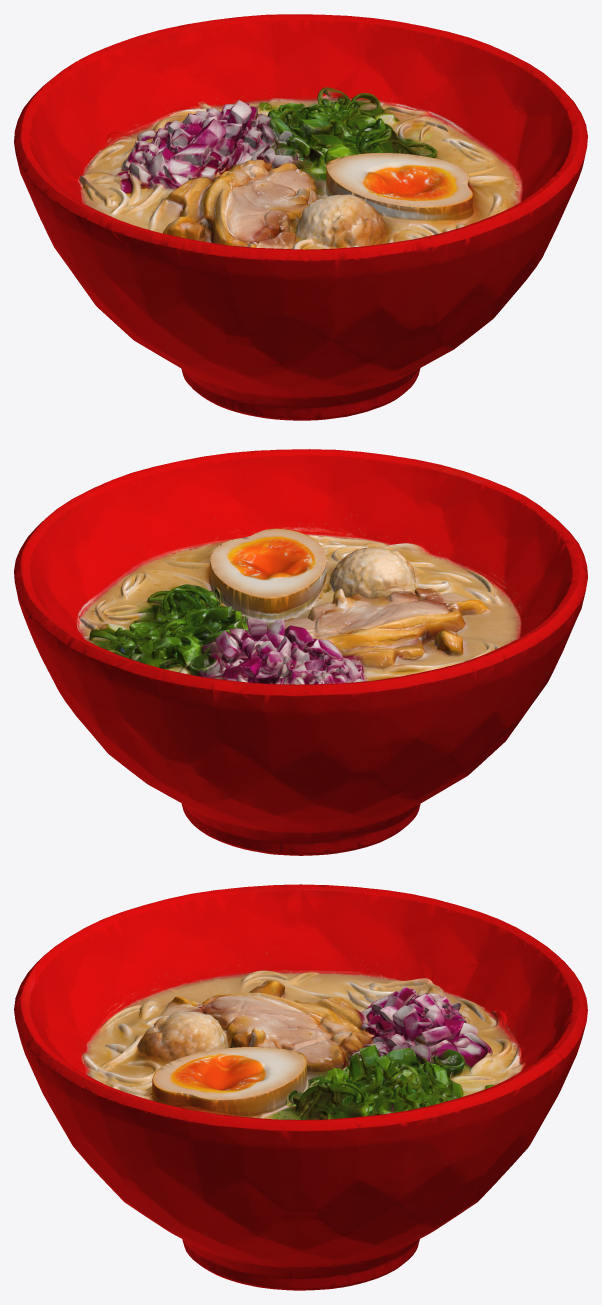
The model's file is ramenshio.glb.
3 renders of one model, top to bottom at view 1: azimuth 30°, elevation 25°; view 2: azimuth 150°, elevation 25°; view 3: azimuth 270°, elevation 25°, orthographic.
Bounding box in the file's own units: 0.5693 × 0.2632 × 0.5694.
1 material, 1 textured.
